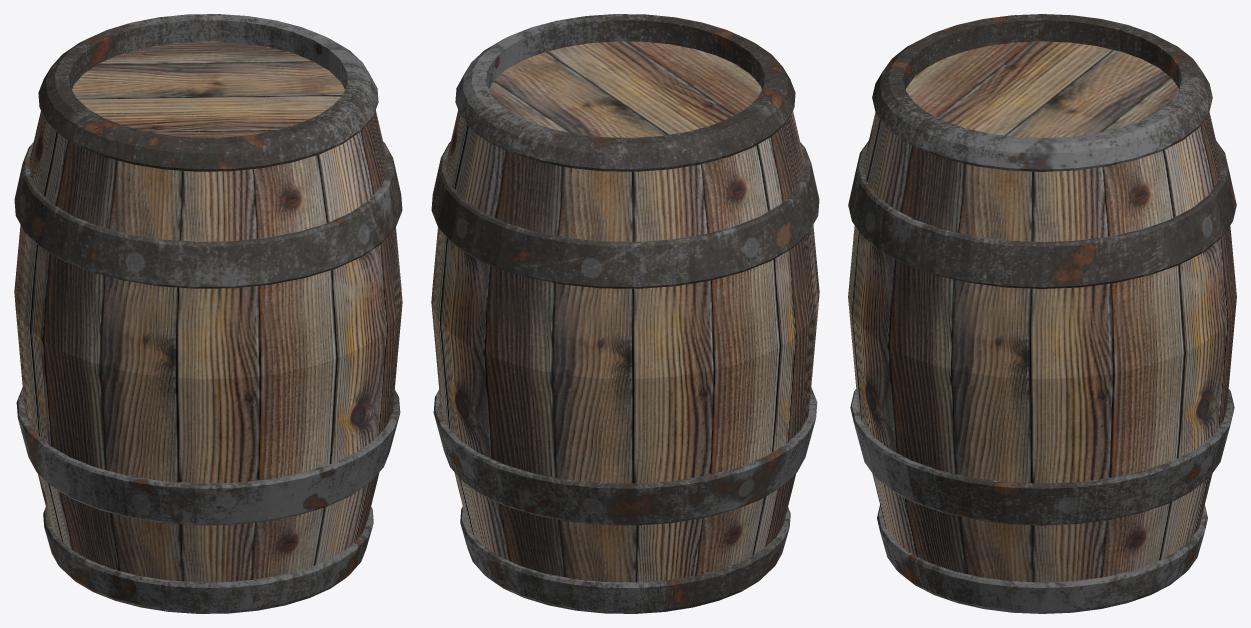
File: Barrel_low_poly.fbx
The picture shows the model from 3 angles, left to right: view 1: azimuth 30°, elevation 25°; view 2: azimuth 150°, elevation 25°; view 3: azimuth 270°, elevation 25°; orthographic projection.
Parts seen in each view (by area): view 1: Barrel.003, Barrel.003_Middle-high-bar, Barrel.003_Middle-down-bar; view 2: Barrel.003, Barrel.003_Middle-high-bar, Barrel.003_Middle-down-bar; view 3: Barrel.003, Barrel.003_Middle-high-bar, Barrel.003_Middle-down-bar.
Boxes of the visible parts, x1,y1,x2,y2 form: Barrel.003: (14, 14, 402, 613); Barrel.003_Middle-high-bar: (14, 141, 402, 288); Barrel.003_Middle-down-bar: (16, 387, 400, 525); Barrel.003: (431, 14, 819, 613); Barrel.003_Middle-high-bar: (431, 141, 819, 288); Barrel.003_Middle-down-bar: (433, 387, 817, 525); Barrel.003: (848, 14, 1236, 613); Barrel.003_Middle-high-bar: (848, 140, 1236, 288); Barrel.003_Middle-down-bar: (850, 389, 1234, 525).
Size of the model in its own units: 60 by 80 by 60.
